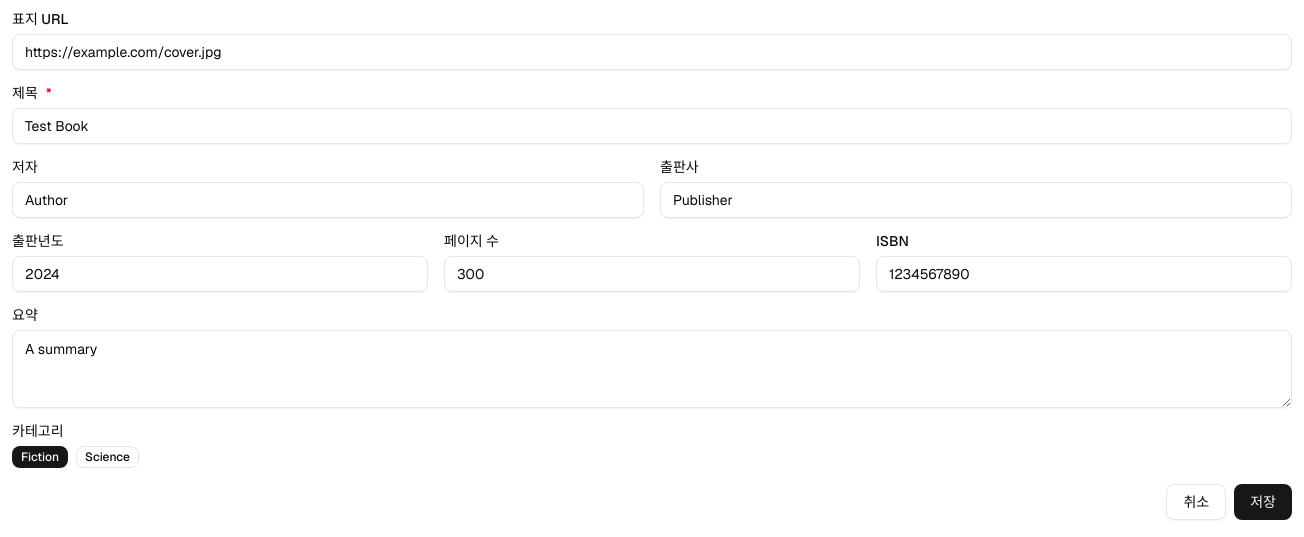
Test: BookEditForm (T-10.13) › disables save button when title is empty
The image size is (1304, 537).
Clear the field showing "Test Book": (652, 126) [12,108,1292,144]
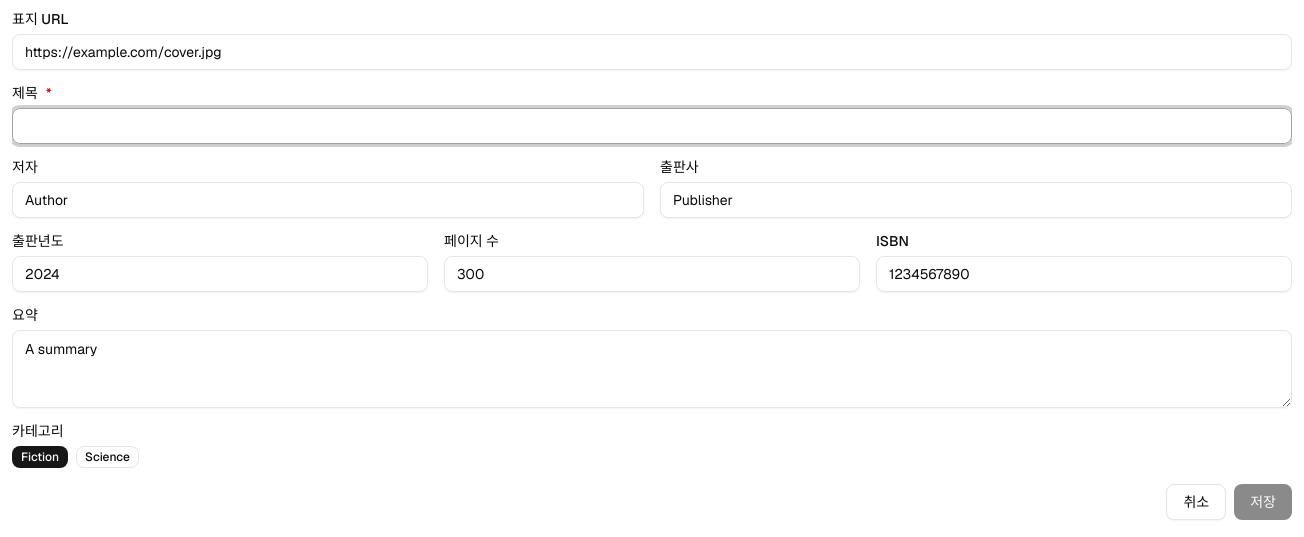
Expected: the button "저장" is disabled, [1234,484,1292,520]
